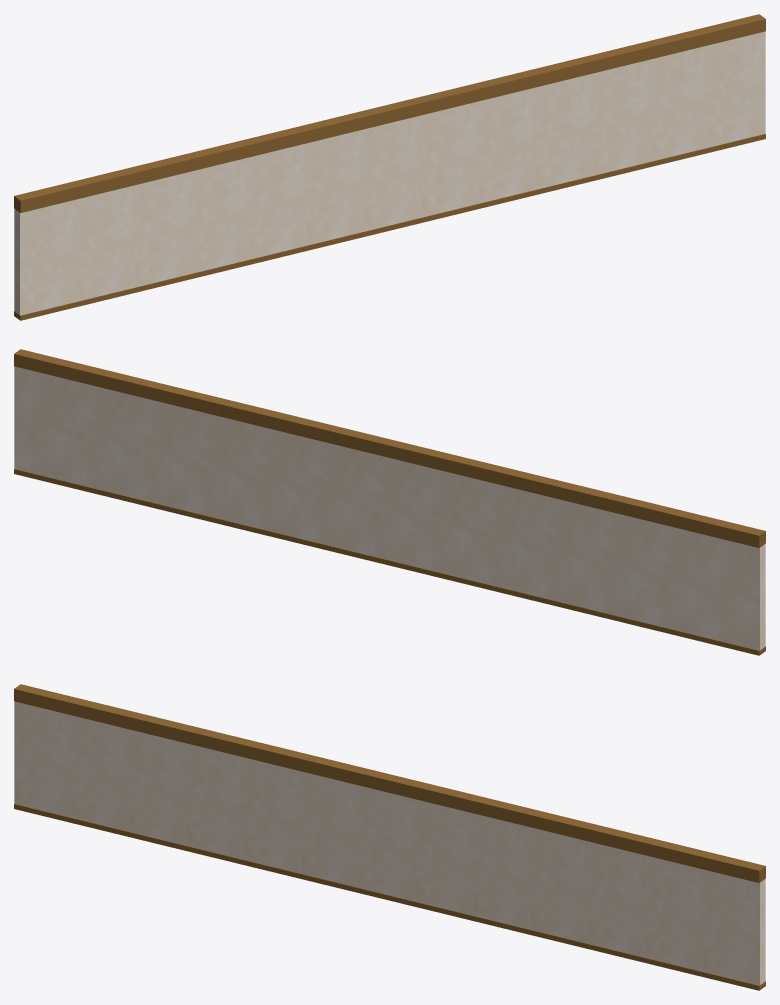
File: wall_13.fbx
The picture shows the model from 3 angles, top to bottom: view 1: azimuth 30°, elevation 25°; view 2: azimuth 150°, elevation 25°; view 3: azimuth 330°, elevation 25°; orthographic projection.
Visible parts, largest first — view 1: wall13; view 2: wall13; view 3: wall13.
Boxes of the visible parts, <box> form: wall13: <box>14,14,765,320</box>; wall13: <box>14,349,765,655</box>; wall13: <box>14,684,765,990</box>.
Size of the model in its own units: 1300 by 200 by 20.
